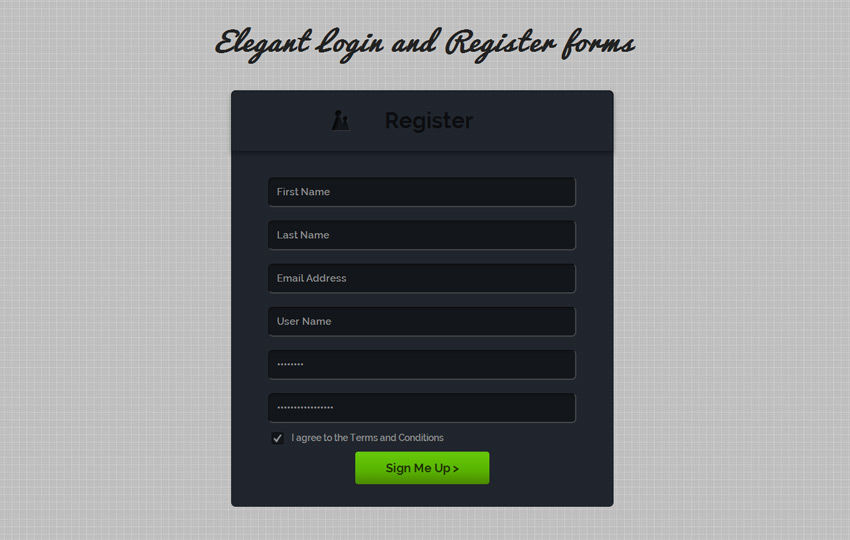button: (353, 450, 494, 486)
checkbox: (268, 430, 287, 446)
field: (266, 174, 578, 210), (266, 347, 580, 382), (265, 391, 579, 426), (265, 218, 577, 252), (265, 262, 577, 295), (266, 306, 580, 338)
